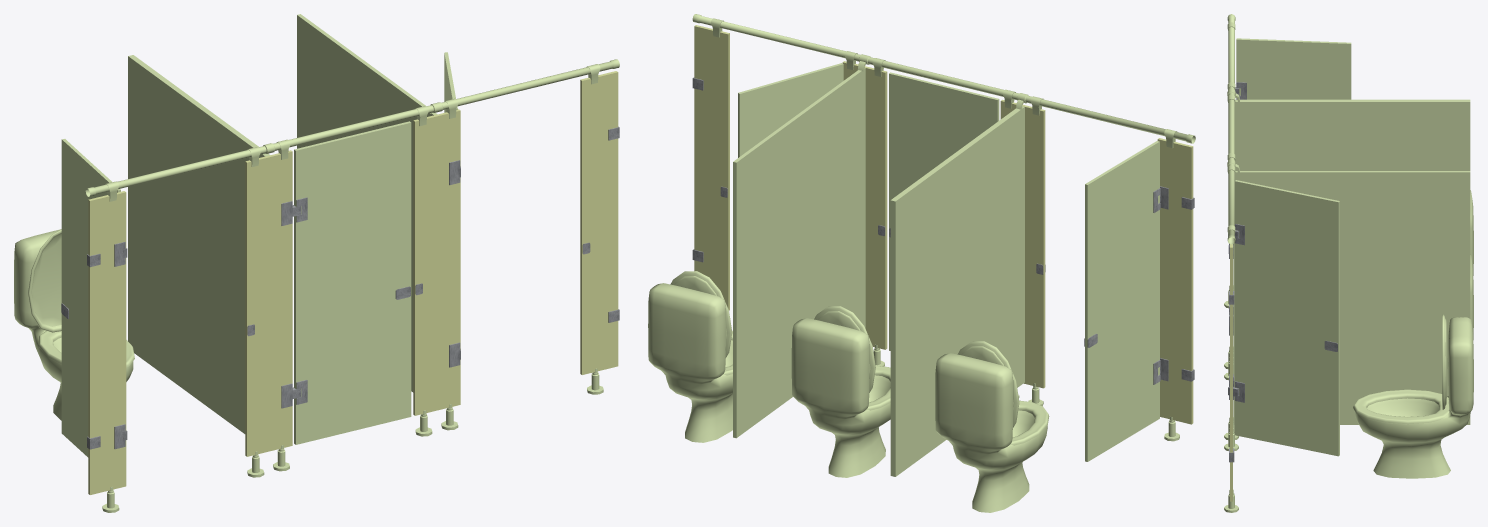
3 views of the same model, side by side, from view 1: azimuth 30°, elevation 25°; view 2: azimuth 150°, elevation 25°; view 3: azimuth 270°, elevation 25° (orthographic). The views are drawn at different scales.
Visible parts, largest first — view 1: Doors.001, Room Separator, Doors.003, Doors.002, Closet, Door Bar, Door Hinge.001, Door Feet; view 2: Room Separator, Closet, Doors.001, Doors.002, Doors.003, Door Bar, Doors, Door Hinge.001; view 3: Room Separator, Doors, Closet, Doors.002, Door Bar, Doors.001, Door Feet, Door Hinge.
Part boxes in pixels (<box>): Doors.001: <box>88,71,618,494</box>; Room Separator: <box>128,14,437,433</box>; Doors.003: <box>294,121,411,444</box>; Doors.002: <box>61,139,120,457</box>; Closet: <box>14,229,134,420</box>; Door Bar: <box>85,59,619,201</box>; Door Hinge.001: <box>87,126,619,449</box>; Door Feet: <box>102,368,603,512</box>; Room Separator: <box>733,68,1024,476</box>; Closet: <box>648,271,1049,512</box>; Doors.001: <box>694,25,1193,424</box>; Doors.002: <box>1085,141,1159,461</box>; Doors.003: <box>889,72,999,350</box>; Door Bar: <box>692,14,1195,148</box>; Doors: <box>738,63,843,157</box>; Door Hinge.001: <box>692,77,1194,381</box>; Room Separator: <box>1233,99,1470,424</box>; Doors: <box>1234,180,1339,456</box>; Closet: <box>1353,190,1473,478</box>; Doors.002: <box>1236,38,1351,99</box>; Door Bar: <box>1227,14,1239,244</box>; Doors.001: <box>1230,244,1232,501</box>; Door Feet: <box>1224,285,1238,512</box>; Door Hinge: <box>1235,224,1244,402</box>.
Size of the model in its own units: 200 by 119 by 94.52.
9 materials, 1 textured.
